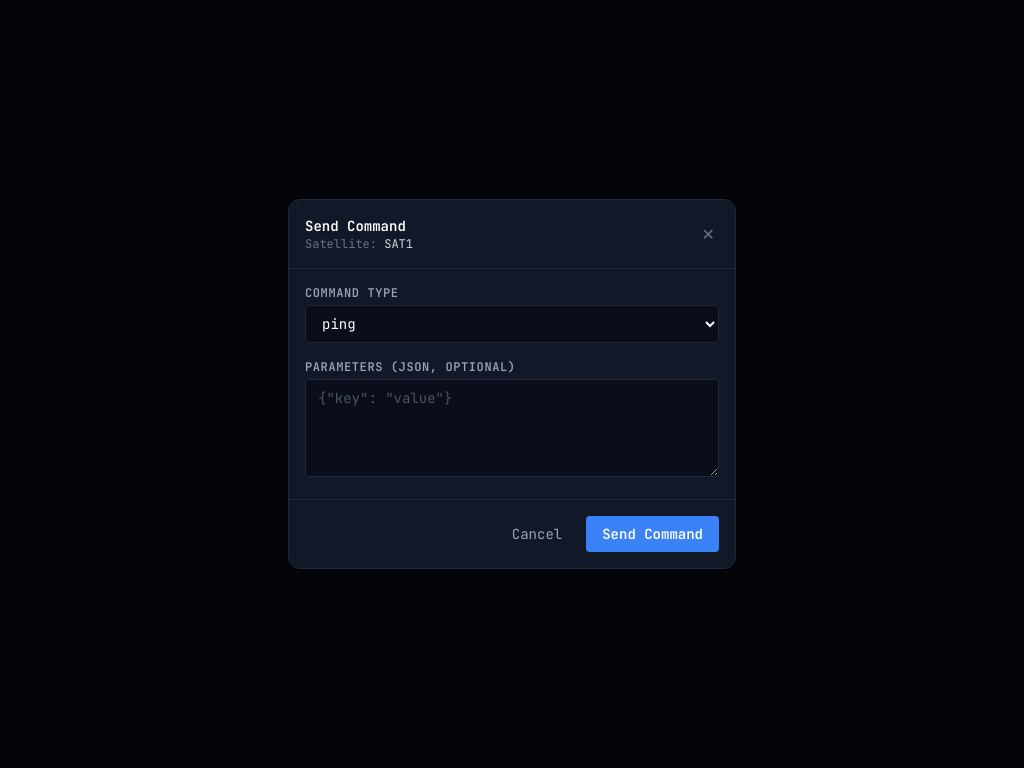
Test: CommandModal — unverifiable satellite mode › shows the policy reason when the server refuses the command
The image size is (1024, 768).
Click the button "Send Command" at {"x": 653, "y": 534}, box x1=586 y1=516 x2=719 y2=552
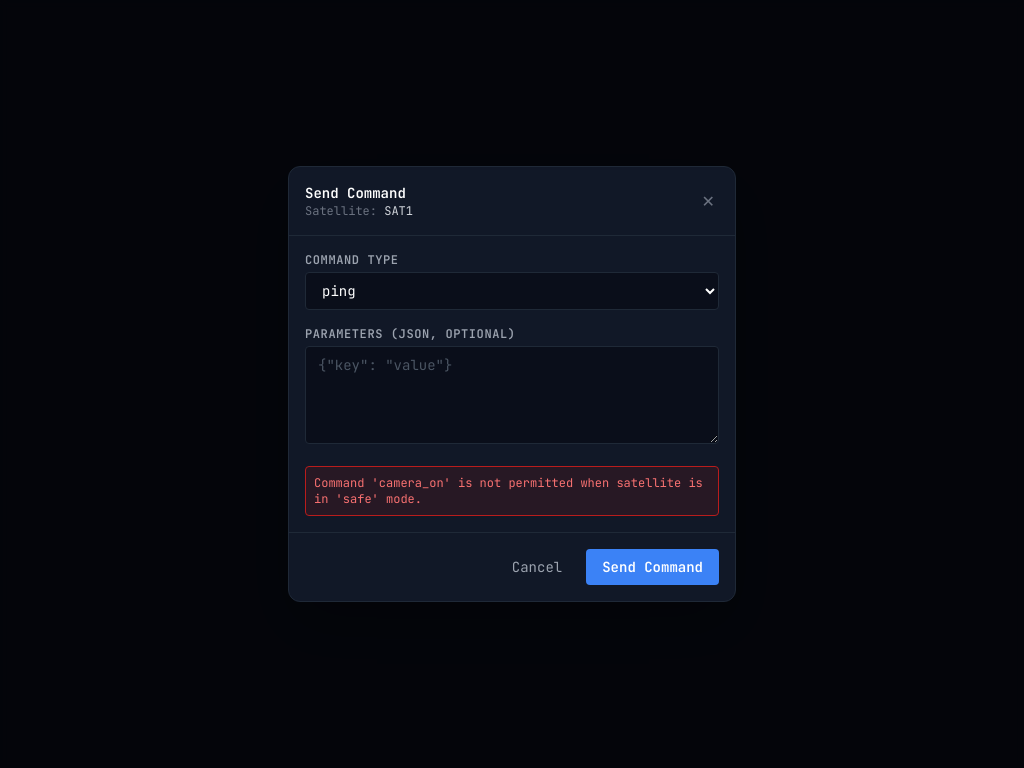
Result: the text "Command 'camera_on' is not permitted when satellite is in 'safe' mode." is shown at x1=314 y1=475 x2=710 y2=507
